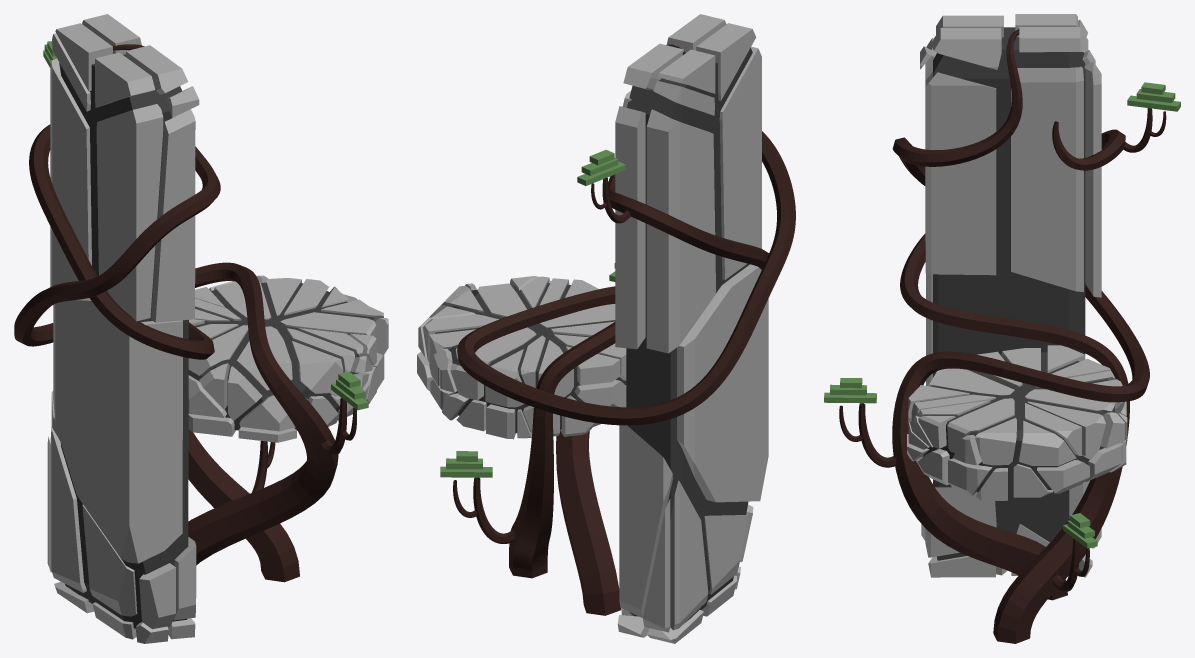
The model's file is chairir.fbx.
The picture shows the model from 3 angles, left to right: view 1: azimuth 30°, elevation 25°; view 2: azimuth 150°, elevation 25°; view 3: azimuth 270°, elevation 25°; orthographic projection. The views are drawn at different scales.
Parts seen in each view (by area): view 1: Cube, Cylinder_cell.022, NurbsPath.001, NurbsPath, Cube.001, Cylinder, Cube.002, NurbsPath.003, NurbsPath.002; view 2: Cube, NurbsPath.001, Cylinder_cell.022, Cube.001, NurbsPath, Cylinder, NurbsPath.002, Cube.004, Cube.003, NurbsPath.004; view 3: Cube, Cylinder_cell.022, Cube.001, NurbsPath.001, NurbsPath, Cylinder, Cube.003, Cube.002, NurbsPath.003, Cube.004, NurbsPath.002, NurbsPath.004.
Part boxes in pixels (bbox=[...]): Cube: bbox=[47, 14, 199, 643]; Cylinder_cell.022: bbox=[188, 275, 388, 442]; NurbsPath.001: bbox=[14, 44, 338, 565]; NurbsPath: bbox=[29, 124, 299, 582]; Cube.001: bbox=[59, 54, 188, 628]; Cylinder: bbox=[188, 282, 374, 430]; Cube.002: bbox=[331, 371, 368, 410]; NurbsPath.003: bbox=[321, 398, 356, 455]; NurbsPath.002: bbox=[251, 441, 275, 492]; Cube: bbox=[615, 14, 768, 643]; NurbsPath.001: bbox=[457, 44, 795, 615]; Cylinder_cell.022: bbox=[417, 276, 626, 439]; Cube.001: bbox=[626, 48, 752, 623]; NurbsPath: bbox=[509, 174, 768, 578]; Cylinder: bbox=[435, 283, 626, 433]; NurbsPath.002: bbox=[453, 477, 515, 543]; Cube.004: bbox=[440, 451, 492, 477]; Cube.003: bbox=[577, 149, 625, 185]; NurbsPath.004: bbox=[591, 177, 630, 223]; Cube: bbox=[920, 14, 1101, 577]; Cylinder_cell.022: bbox=[907, 345, 1127, 500]; Cube.001: bbox=[933, 27, 1085, 560]; NurbsPath.001: bbox=[892, 29, 1149, 600]; NurbsPath: bbox=[900, 121, 1129, 643]; Cylinder: bbox=[920, 352, 1114, 494]; Cube.003: bbox=[1127, 82, 1180, 111]; Cube.002: bbox=[824, 378, 876, 403]; NurbsPath.003: bbox=[839, 403, 896, 467]; Cube.004: bbox=[1063, 513, 1097, 548]; NurbsPath.002: bbox=[1053, 538, 1089, 591]; NurbsPath.004: bbox=[1123, 108, 1166, 152].
Bounding box in the file's own units: 279 × 459 × 277.
